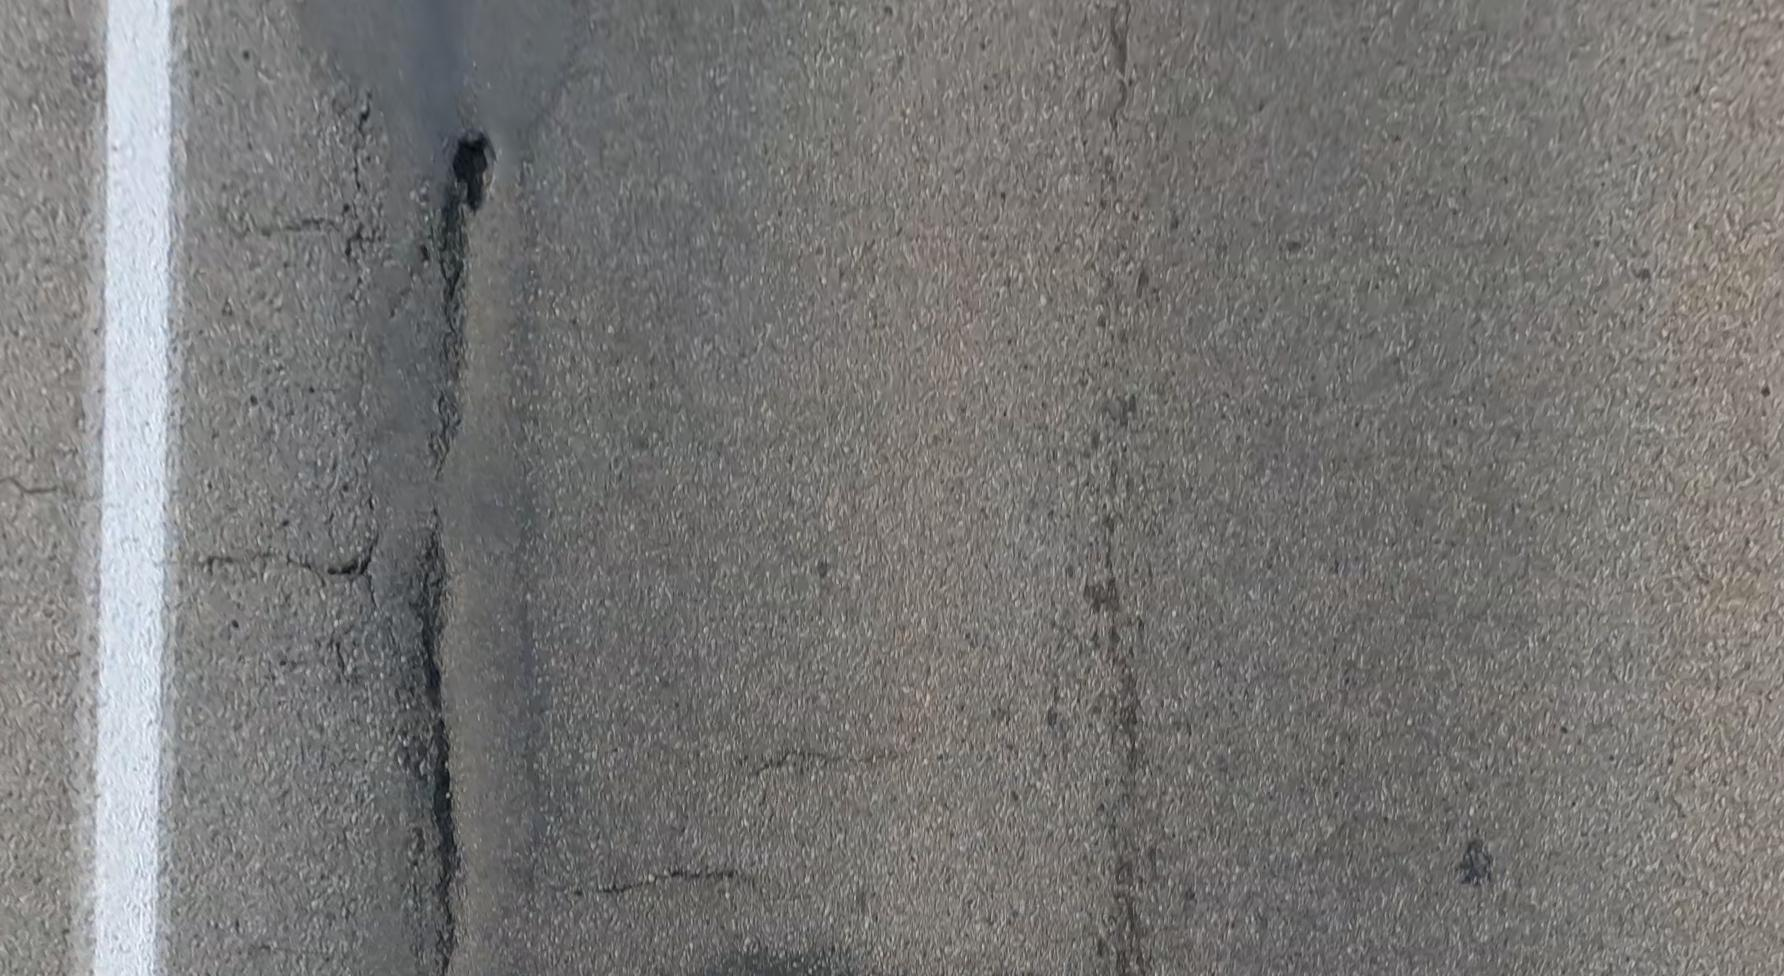pothole_patch_poor: (296, 0, 580, 974)
